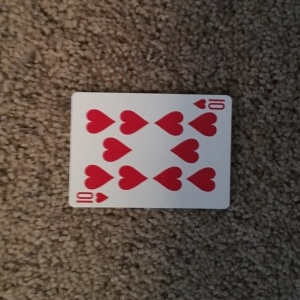card: (67, 90, 232, 210)
